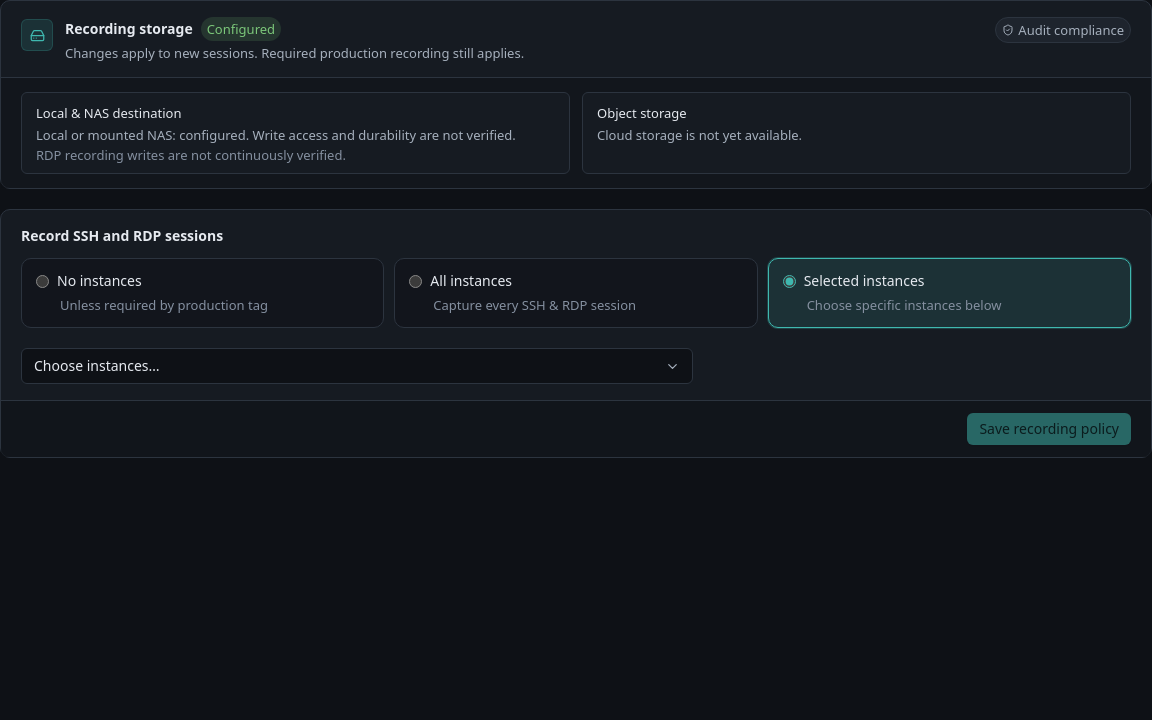
Test: closes on outside click and requires a selection before saving
Later steps or results of the test are not shown.
Expected: the button "Save recording policy" is disabled, [967, 413, 1131, 445]
Click the button "Choose instances…": click(97, 366) [21, 348, 693, 384]
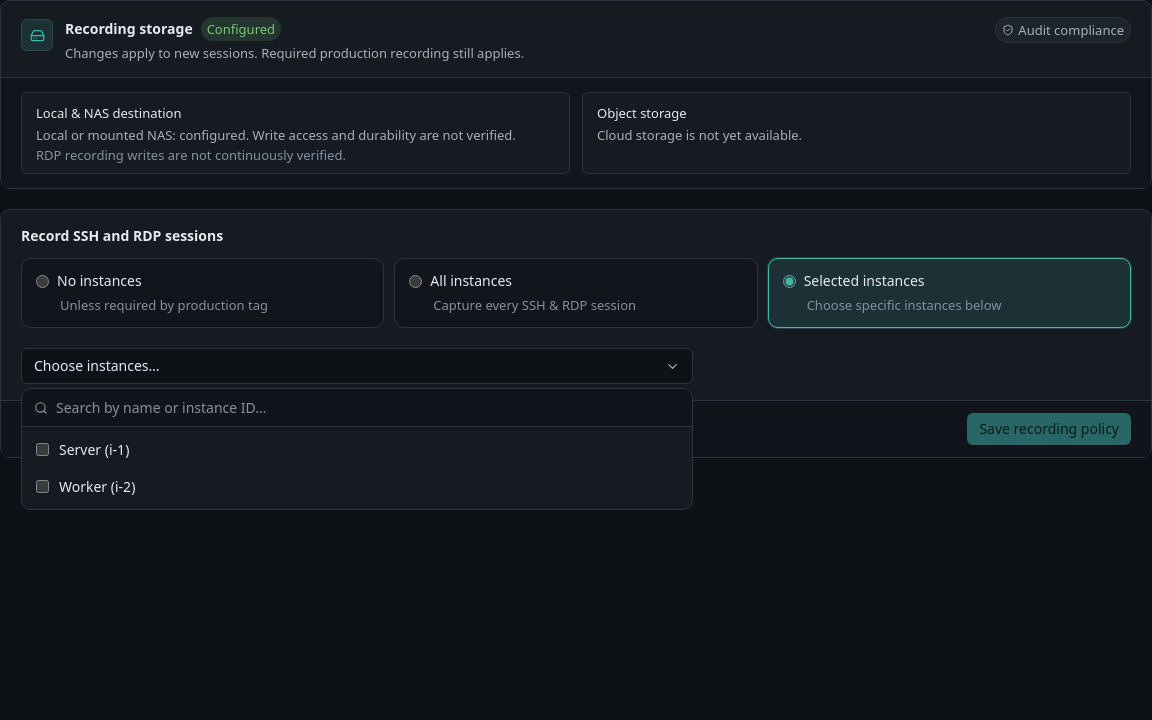
Click the checkbox labelled "Server (i-1)": click(42, 450) [36, 443, 49, 456]
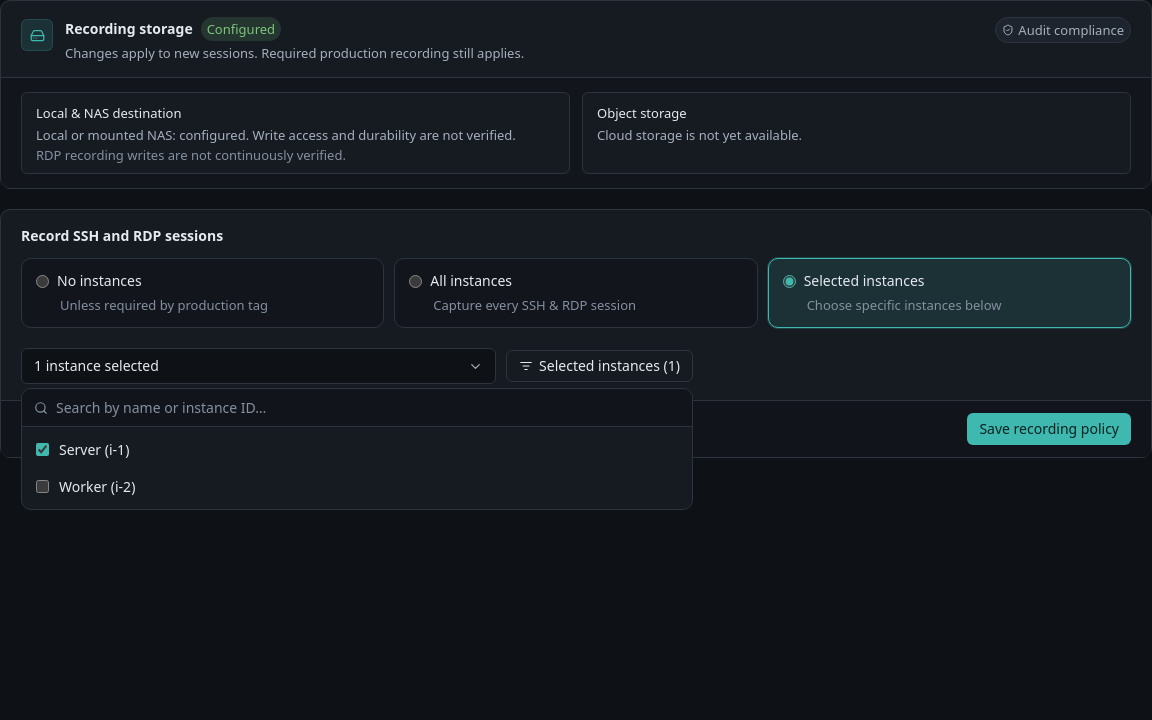
Result: the button "Save recording policy" is enabled at [967, 413, 1131, 445]
Click the checkbox labelled "Server (i-1)": click(42, 450) [36, 443, 49, 456]
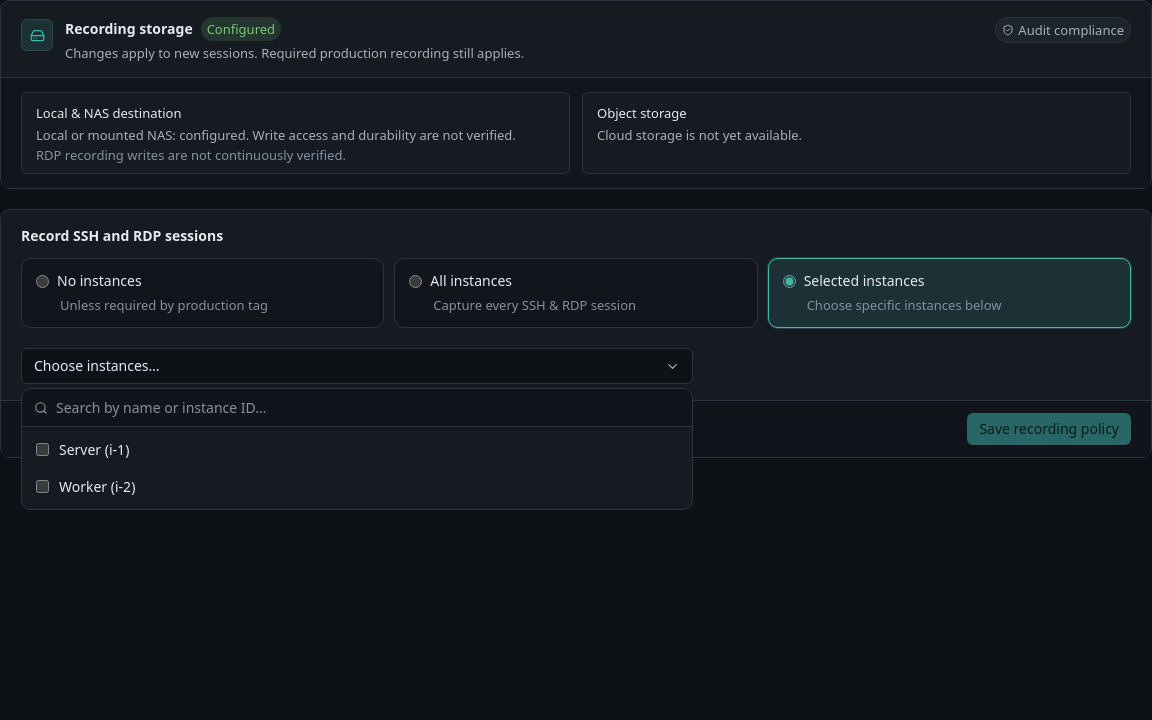
Result: the button "Save recording policy" is disabled at [967, 413, 1131, 445]
